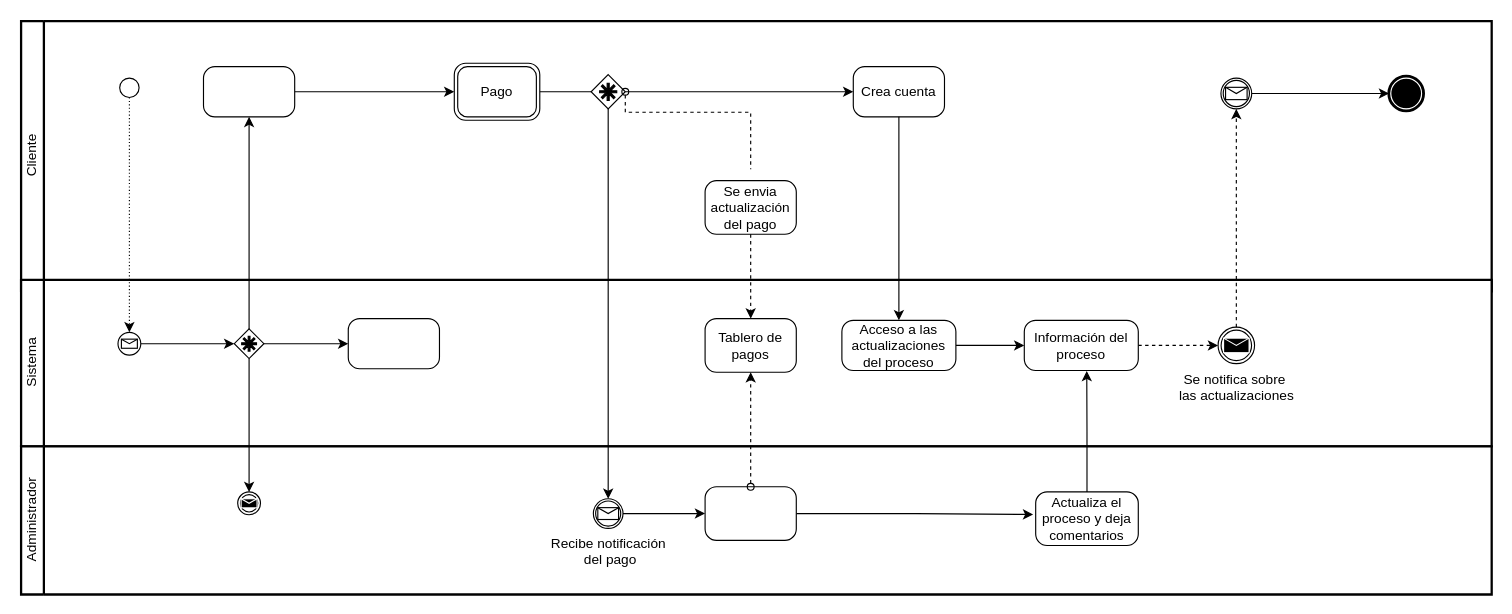
Some shapes in this 1512 by 614 pixel diagram are drawn without their labels. Each missing label, with the centre of its shape:
"Demanda enviada via webform" belongs at point 129,343.
"El usuario recibe notificaciones de las actualizaciones de proceso" belongs at point 1236,93.
"Notificación de nueva demanda" belongs at point 248,503.
"Proceso de pago" belongs at point 248,91.
"Revisa el pago en el dashboard" belongs at point 750,513.
"Se crea el formato de la demanda" belongs at point 393,343.
